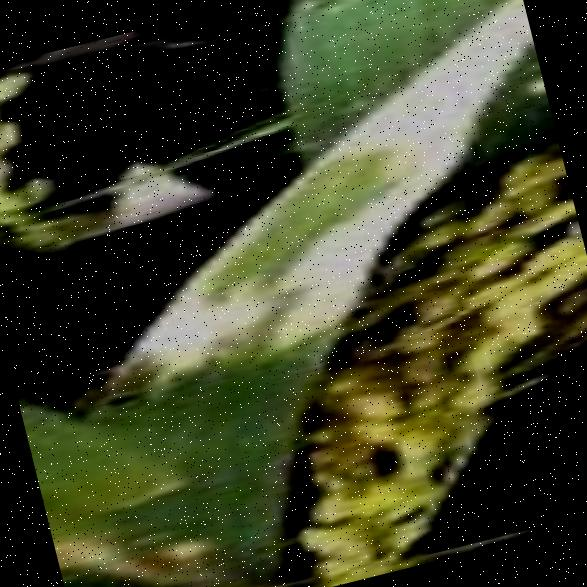Bacteria_Leaf_Blight: (65, 94, 472, 584)
